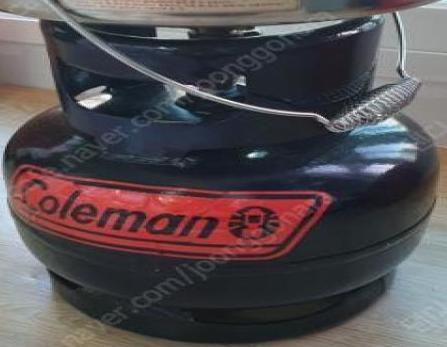cylinder: (1, 1, 447, 347)
